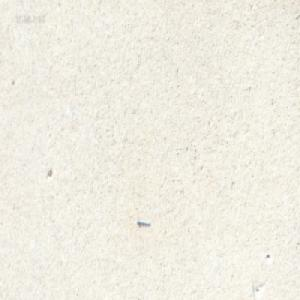Nail: (135, 216, 150, 225)
